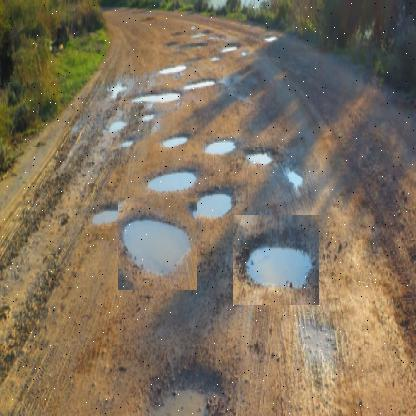pothole_water: (232, 215, 319, 306), (117, 198, 197, 291)
